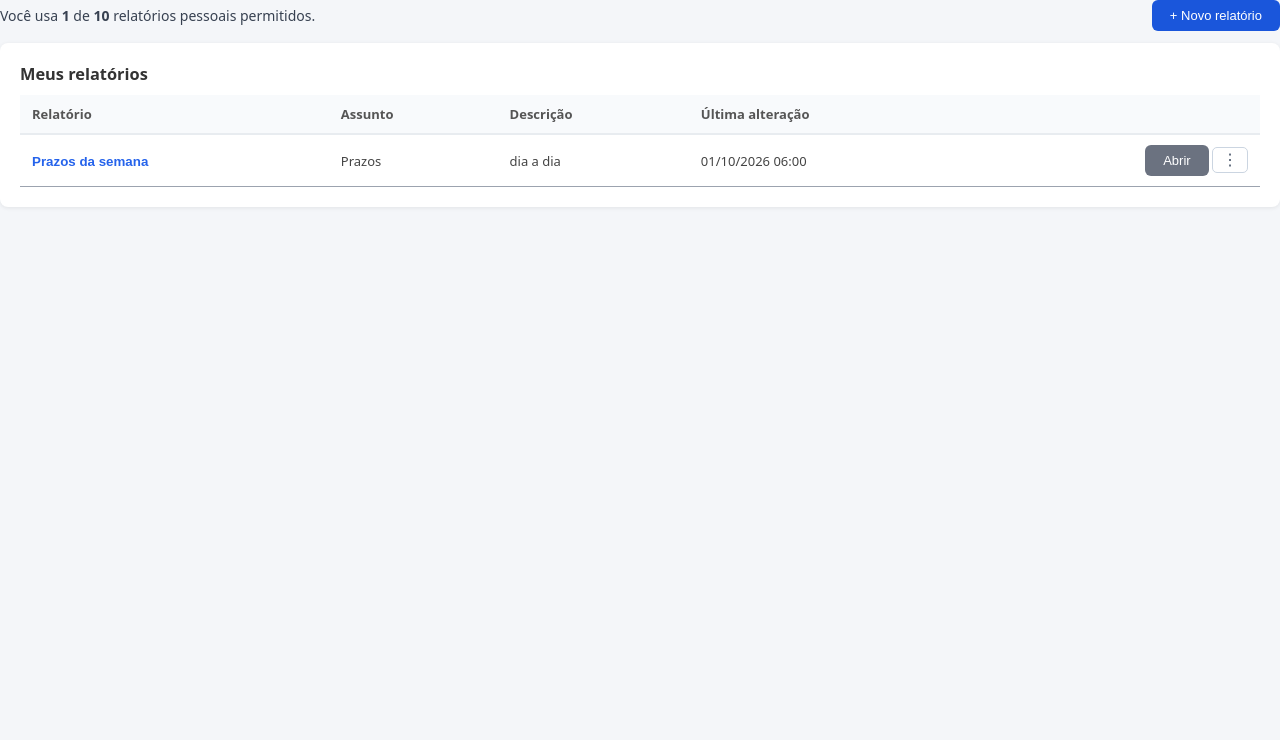
Test case: Relatórios (tela nova) › data agrupa por mês por padrão e deixa trocar para dia, semana ou ano; segundo nível não repete o campo
The image size is (1280, 740).
Later steps or results of the test are not shown.
Click the button "+ Novo relatório".
click(1216, 16)  # box left=1152, top=0, right=1279, bottom=31
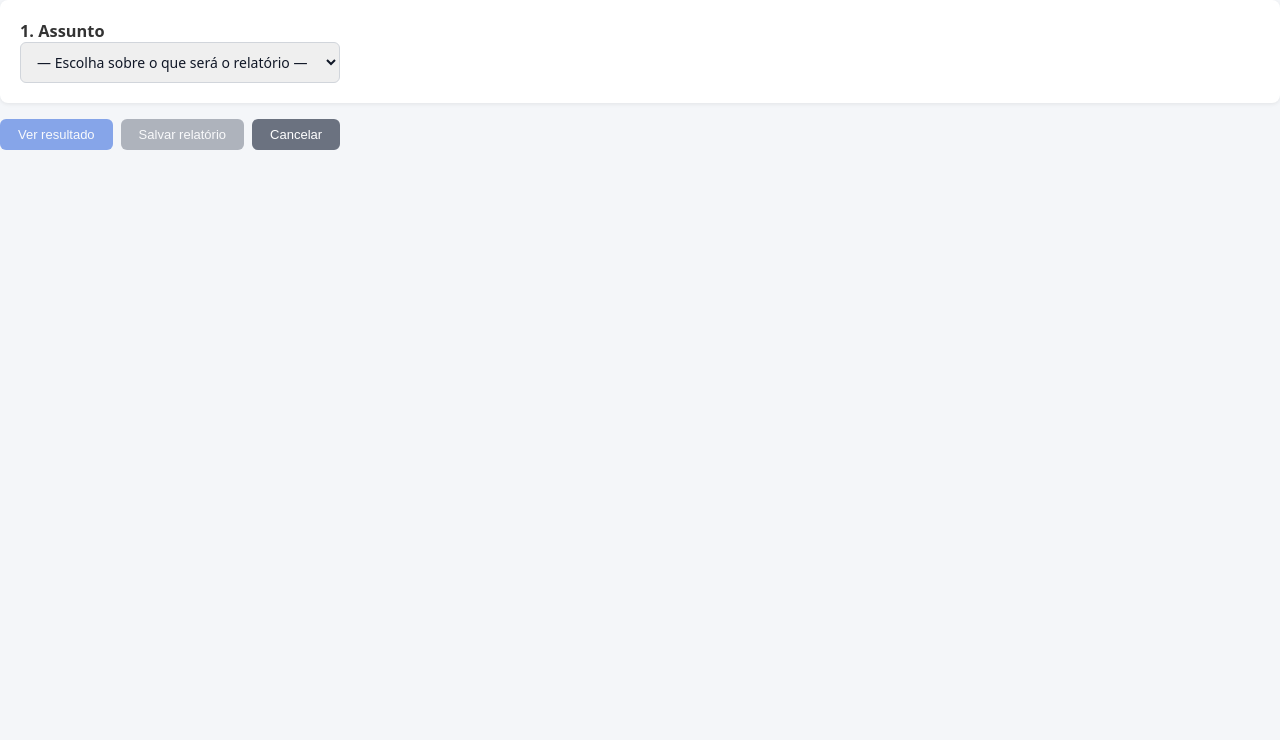
Select "Prazos" in the dropdown named "Assunto do relatório" at (180, 62), box left=20, top=42, right=340, bottom=83
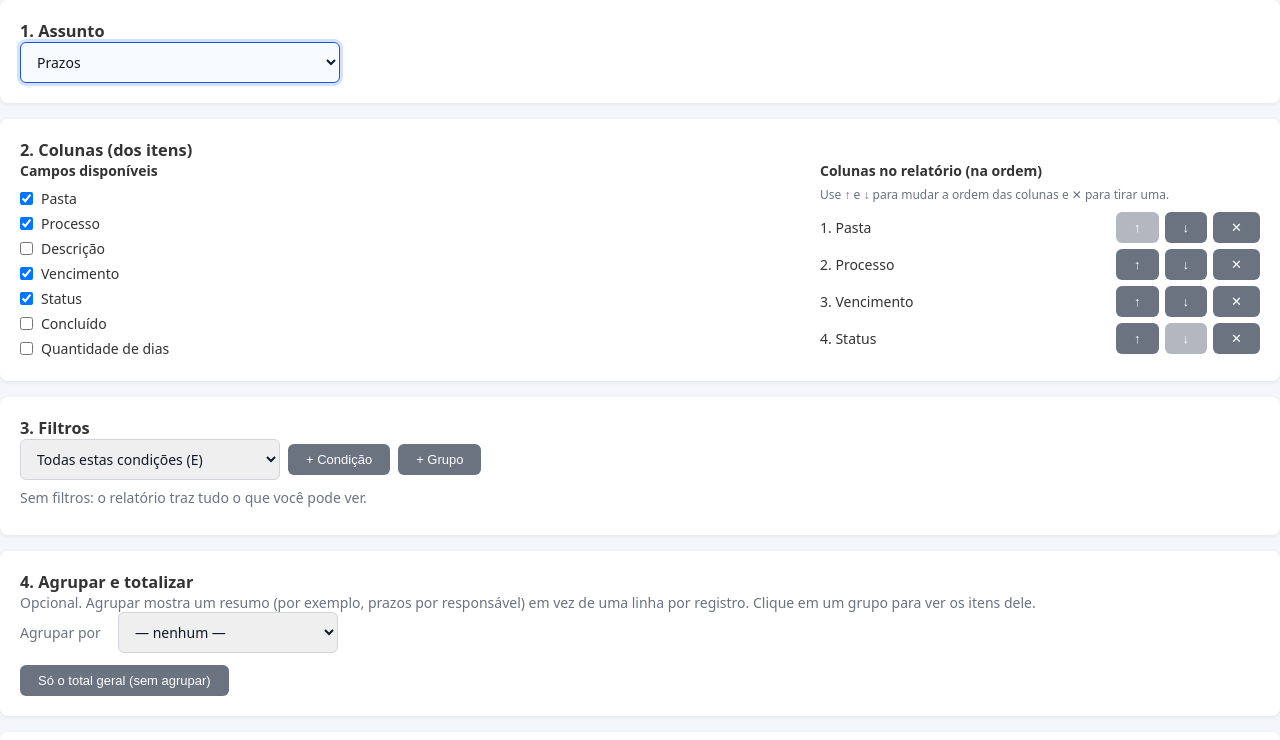
Select "Vencimento" in the dropdown named "Agrupar por (1)" at (228, 632), box left=118, top=612, right=338, bottom=653
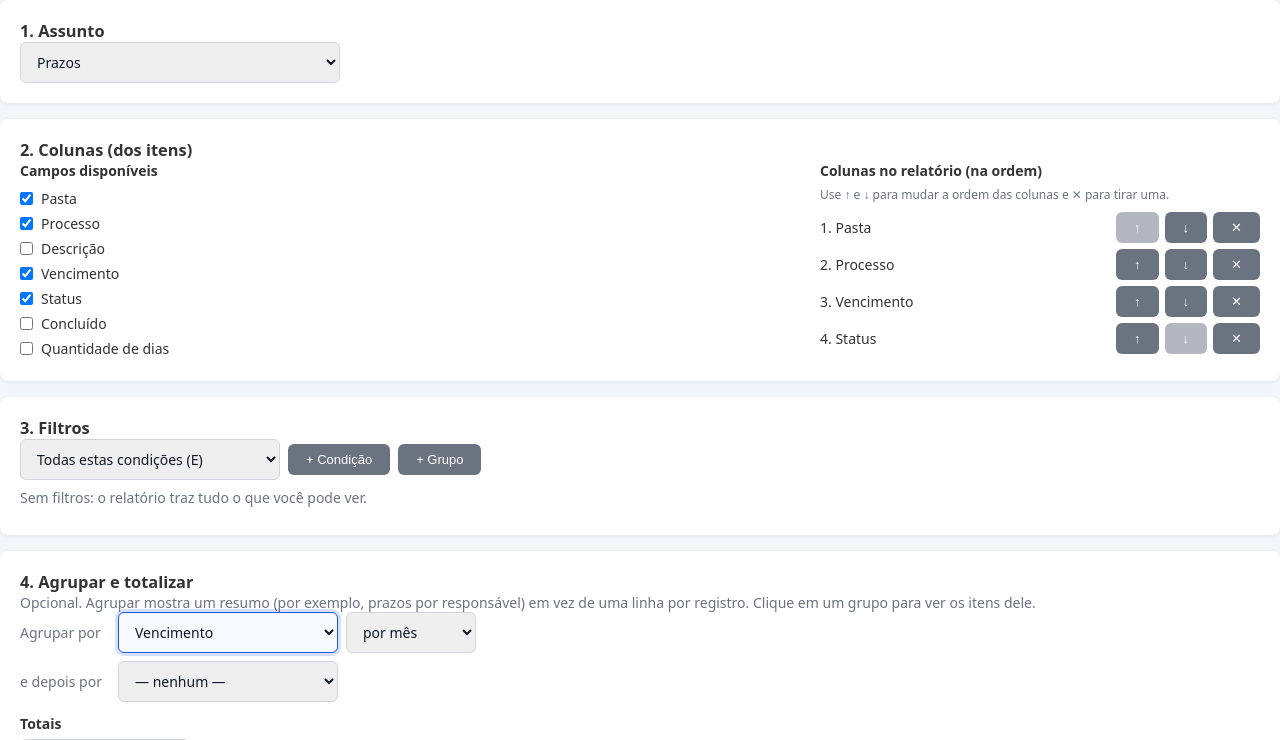
Expected: the dropdown named "Agrupar Vencimento por" shows "por mês", left=346, top=612, right=476, bottom=653
